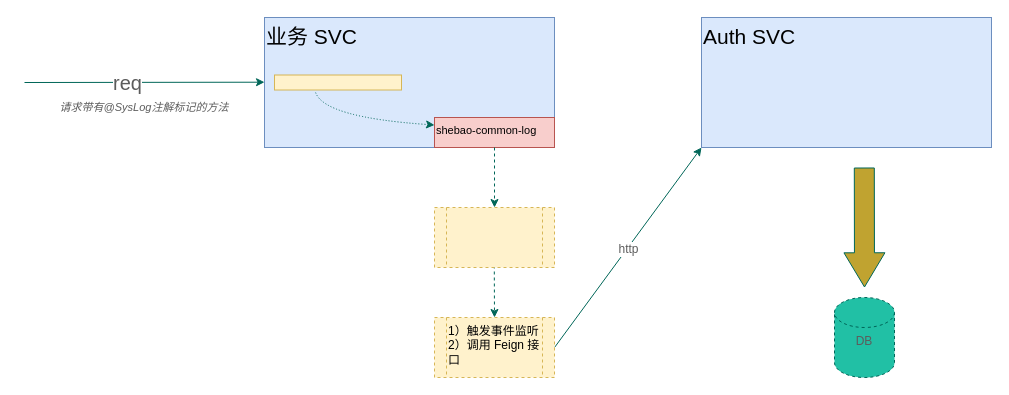
Image size: 1009x395. Some labels were removed from this diagram. Each missing label, with the centre of its shape:
1）Around通知 2）发送异步事件: (494,237)
@SysLog("删除记录"): (338,82)
